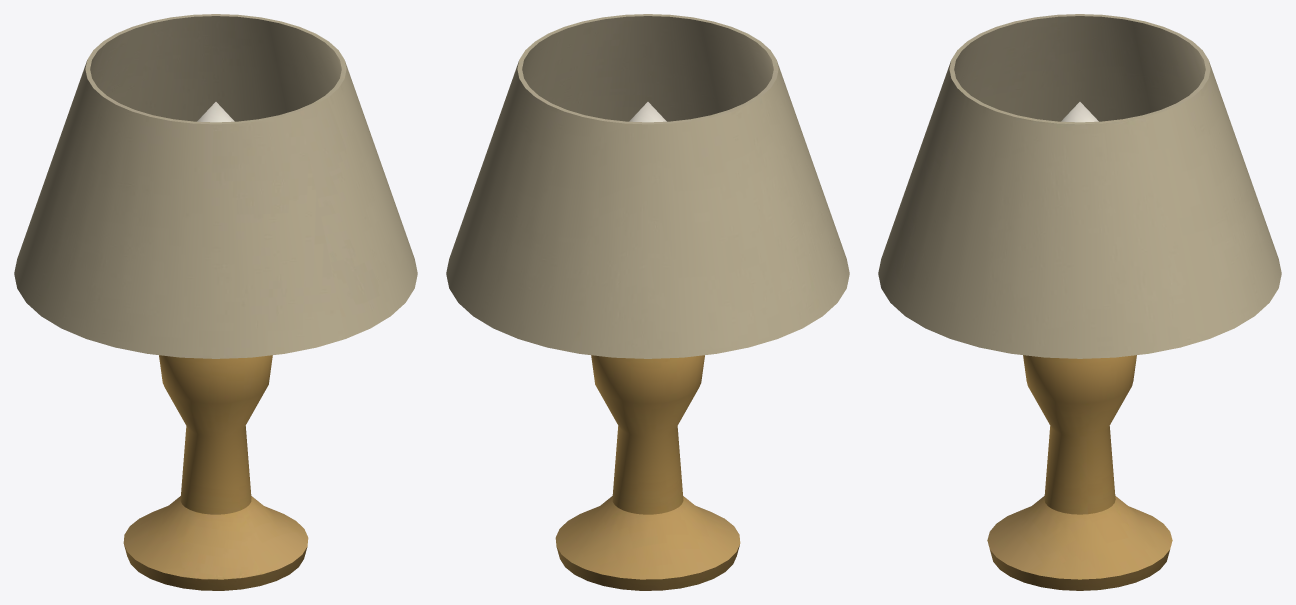
Rendered from table_lamp.glb.
3 views of the same model, side by side, from view 1: azimuth 30°, elevation 25°; view 2: azimuth 150°, elevation 25°; view 3: azimuth 270°, elevation 25° (orthographic).
Visible parts, largest first — view 1: table_lamp; view 2: table_lamp; view 3: table_lamp.
Boxes of the visible parts, x1,y1,x2,y2 form: table_lamp: (14,14,417,590); table_lamp: (446,14,849,590); table_lamp: (878,14,1281,590).
Bounding box in the file's own units: 0.34 × 0.45 × 0.34.
1 material, 1 textured.
